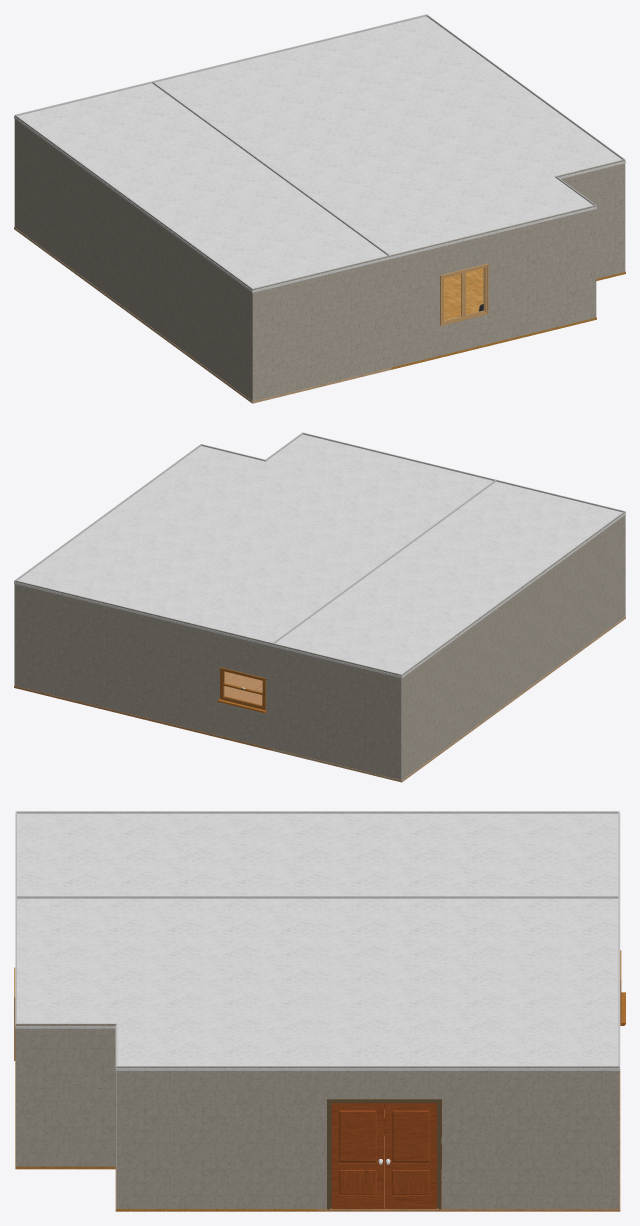
The model's file is ProcTHOR-Train-186.glb.
3 renders of one model, top to bottom at view 1: azimuth 30°, elevation 25°; view 2: azimuth 150°, elevation 25°; view 3: azimuth 270°, elevation 25°, orthographic. The views are drawn at different scales.
Visible parts, largest first — view 1: Ceiling#room|2|c, Ceiling#room|6|c, Ceiling#room|7|c, WallInside#wall|exterior|10.45|0.00|10.45|10.45, WallInside#wall|exterior|1.74|10.45|6.96|10.45, WallInside#wall|exterior|6.96|10.45|10.45|10.45, WallInside#wall|exterior|0.00|8.71|1.74|8.71, Floor#room|7|f, Floor#room|2|f, Window_Slider_48x48, WallInside#wall|6|0.00|0.00|6.96|0.00; view 2: Ceiling#room|2|c, Ceiling#room|6|c, WallInside#wall|exterior|0.00|0.00|6.96|0.00, Ceiling#room|7|c, WallInside#wall|exterior|10.45|0.00|10.45|10.45, WallInside#wall|exterior|6.96|0.00|10.45|0.00, Floor#room|6|f, Floor#room|2|f, Window_Hung_48x32; view 3: Ceiling#room|6|c, Ceiling#room|2|c, Ceiling#room|7|c, WallInside#wall|exterior|0.00|0.00|0.00|5.22, WallInside#wall|exterior|0.00|5.22|0.00|8.71, WallInside#wall|exterior|1.74|8.71|1.74|10.45, Doorway_Door_4a, Doorway_Door_4b, WallInside#wall|2|10.45|0.00|10.45|10.45, Doorway_Double_4, Floor#room|6|f, Floor#room|7|f (+3 smaller).
Boxes of the visible parts, x1,y1,x2,y2 form: Ceiling#room|2|c: [14, 83, 391, 292]; Ceiling#room|6|c: [154, 16, 544, 169]; Ceiling#room|7|c: [273, 103, 625, 258]; WallInside#wall|exterior|10.45|0.00|10.45|10.45: [14, 115, 252, 401]; WallInside#wall|exterior|1.74|10.45|6.96|10.45: [390, 205, 596, 367]; WallInside#wall|exterior|6.96|10.45|10.45|10.45: [252, 255, 390, 401]; WallInside#wall|exterior|0.00|8.71|1.74|8.71: [556, 159, 625, 278]; Floor#room|7|f: [391, 268, 625, 369]; Floor#room|2|f: [14, 227, 391, 403]; Window_Slider_48x48: [440, 263, 488, 325]; WallInside#wall|6|0.00|0.00|6.96|0.00: [153, 14, 426, 82]; Ceiling#room|2|c: [271, 481, 625, 678]; Ceiling#room|6|c: [14, 500, 384, 646]; WallInside#wall|exterior|0.00|0.00|6.96|0.00: [14, 580, 272, 748]; Ceiling#room|7|c: [127, 434, 493, 561]; WallInside#wall|exterior|10.45|0.00|10.45|10.45: [402, 511, 625, 779]; WallInside#wall|exterior|6.96|0.00|10.45|0.00: [272, 643, 401, 780]; Floor#room|6|f: [14, 671, 271, 750]; Floor#room|2|f: [271, 616, 625, 782]; Window_Hung_48x32: [217, 667, 266, 713]; Ceiling#room|6|c: [316, 898, 620, 1070]; Ceiling#room|2|c: [15, 813, 620, 898]; Ceiling#room|7|c: [15, 898, 318, 1070]; WallInside#wall|exterior|0.00|0.00|0.00|5.22: [317, 1066, 619, 1208]; WallInside#wall|exterior|0.00|5.22|0.00|8.71: [116, 1066, 318, 1208]; WallInside#wall|exterior|1.74|8.71|1.74|10.45: [15, 1023, 115, 1166]; Doorway_Door_4a: [384, 1103, 437, 1208]; Doorway_Door_4b: [331, 1103, 384, 1208]; WallInside#wall|2|10.45|0.00|10.45|10.45: [17, 811, 618, 813]; Doorway_Double_4: [327, 1099, 441, 1209]; Floor#room|6|f: [316, 1071, 620, 1211]; Floor#room|7|f: [15, 1061, 318, 1211].
Size of what is drawn, in the model's own units: 10.57 by 2.78 by 10.61.
Materials: 194 (106 with a texture image).
